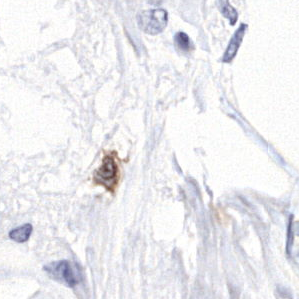Lymphocyte: (94, 149, 123, 191)
